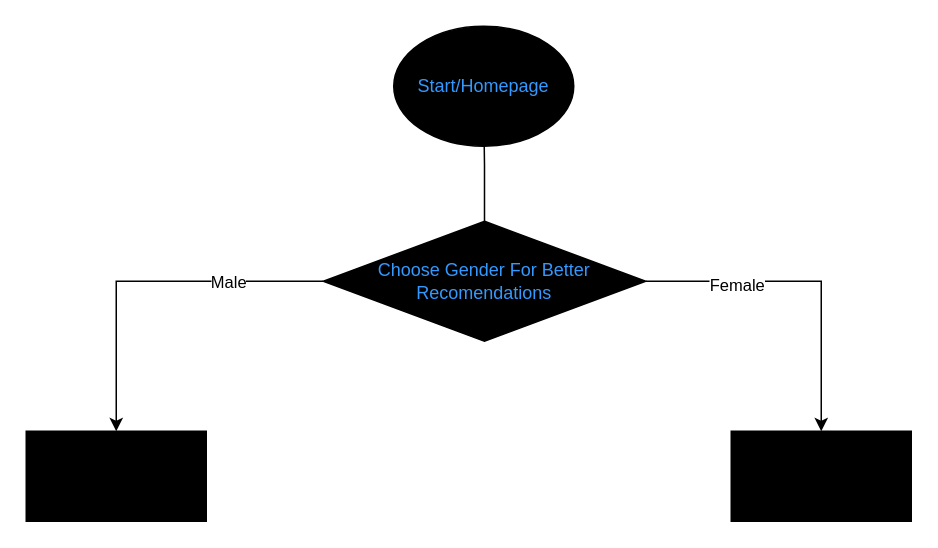
The diagram is 938 pixels wide and 548 high, and some of its shapes have lost their labels. The shapes that lost their labels are listed below. From the top down, each one's box as (x1, y1, x2, y2) in pixels, then its label:
(25, 430, 206, 521): Redirect To Male Products Specific Page
(730, 430, 911, 521): Redirect To Female Products Specific Page
